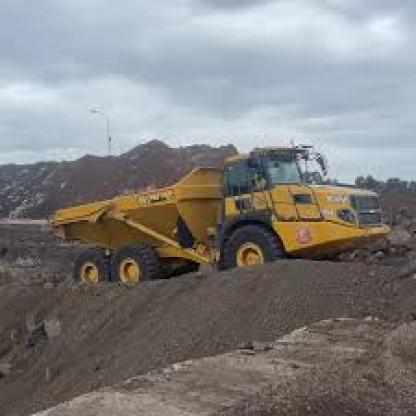dump_truck: (50, 132, 396, 328)
